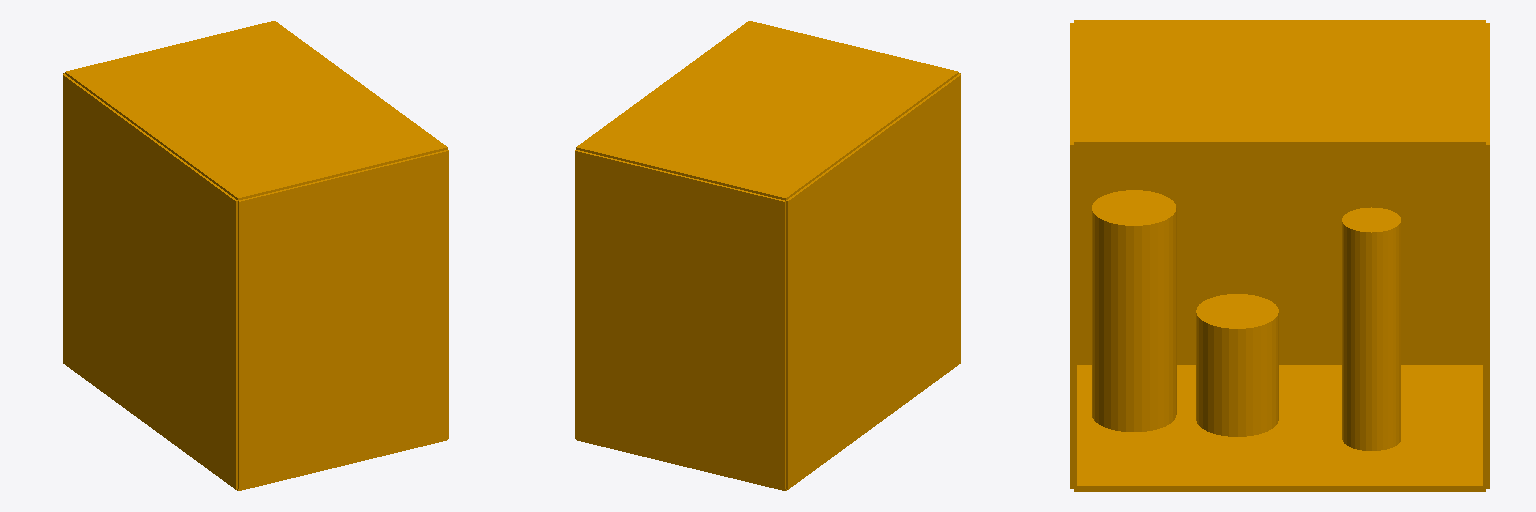
URDF robot description (syn_can_cabinet_1057):
<?xml version="1.0" ?>
<robot name="syn_can_cabinet_1057">
    <link concave="yes" name="base_link">
        <inertial>
            <origin rpy="0 0 0" xyz="0 0 0"/>
            <mass value="0.0"/>
            <inertia ixx="1e-08" ixy="0" ixz="0" iyy="1e-08" iyz="0" izz="1e-08"/>
        </inertial>
        <visual>
            <origin xyz="0 0 0" rpy="0 0 0" />
            <geometry>
                <mesh filename="syn_can_cabinet_1057.obj" scale="1.000000 1.000000 1.000000"/>
            </geometry>         
        </visual>

        <collision concave="yes">
            <origin xyz="0 0 0" rpy="0 0 0"/>
            <geometry>
                <mesh filename="syn_can_cabinet_1057.obj" scale="1.000000 1.000000 1.000000"/>
            </geometry>
        </collision>
    </link>
</robot>
    

--- What the picture shows (computed from the rendered views, not written in the file) ---
3 views of the same robot in one strip: view 1: azimuth 30°, elevation 25°; view 2: azimuth 150°, elevation 25°; view 3: azimuth 270°, elevation 25° (orthographic).
Model syn_can_cabinet_1057 with 1 links and 0 joints (none), rooted at base_link, posed all joints at 0.
Links seen in each view (by area): view 1: base_link; view 2: base_link; view 3: base_link.
Boxes of the visible links, x1,y1,x2,y2 form: base_link: (63, 21, 448, 490); base_link: (575, 21, 960, 490); base_link: (1070, 20, 1489, 491).
Size in the robot's own frame: 0.2166 by 0.3112 by 0.2859 metres.
1 mesh visuals loaded from 1 distinct referenced files (1 OBJ).
